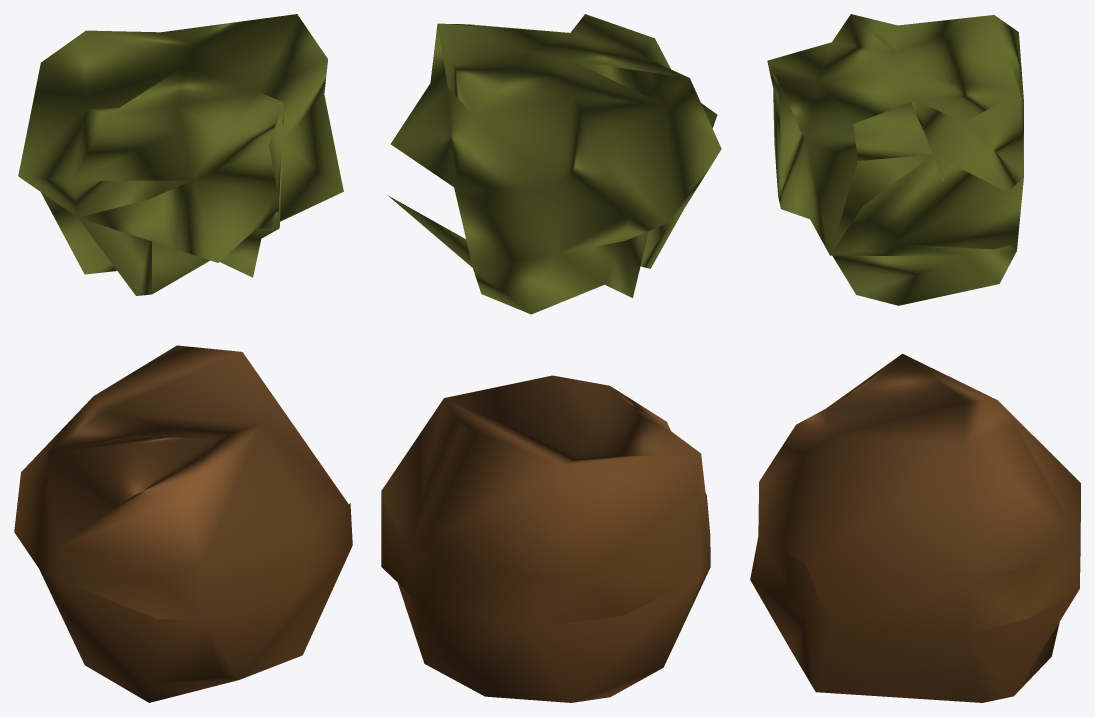
The model's file is decor_pot_t1_large.glb.
The picture shows the model from 3 angles, left to right: view 1: azimuth 30°, elevation 25°; view 2: azimuth 150°, elevation 25°; view 3: azimuth 270°, elevation 25°; orthographic projection. The views are drawn at different scales.
Parts seen in each view (by area): view 1: world; view 2: world; view 3: world.
Part boxes in pixels (box(x1,y1,x2,y2)): world: box(14, 14, 352, 702); world: box(381, 14, 721, 702); world: box(750, 14, 1080, 702).
Bounding box in the file's own units: 0.7086 × 1.5 × 0.6806.
